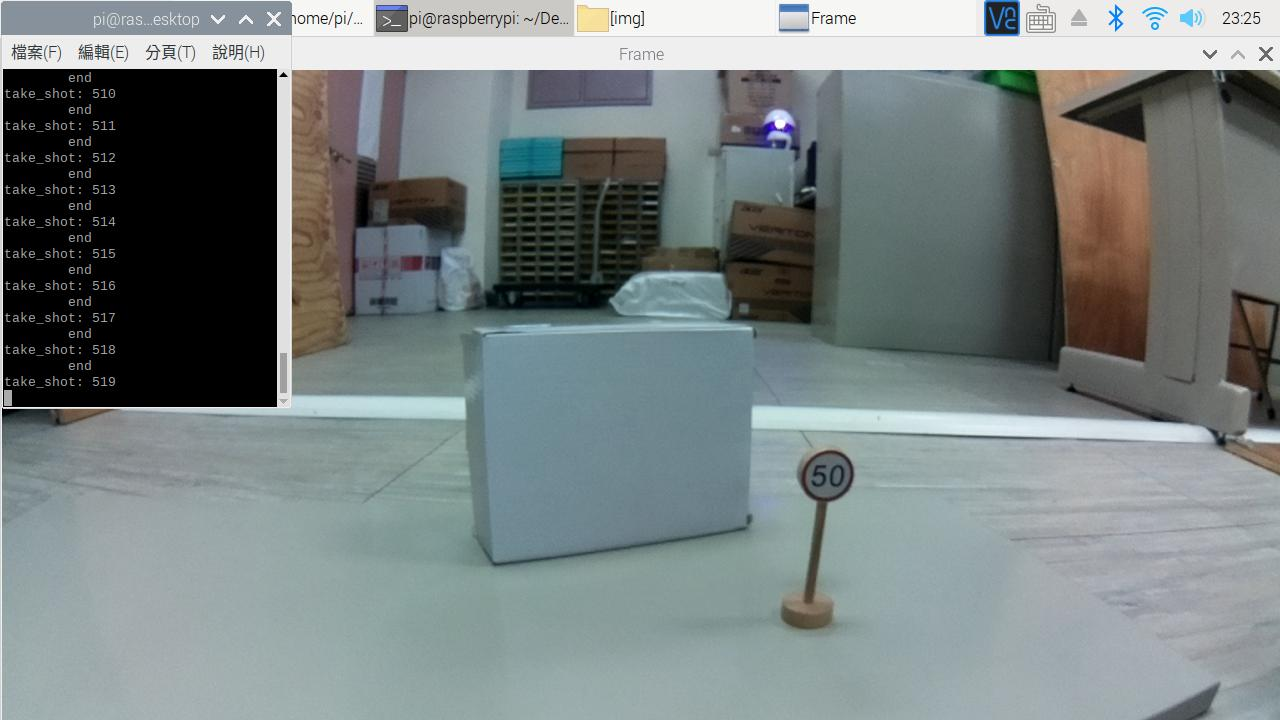Speed50: (798, 442, 869, 516)
